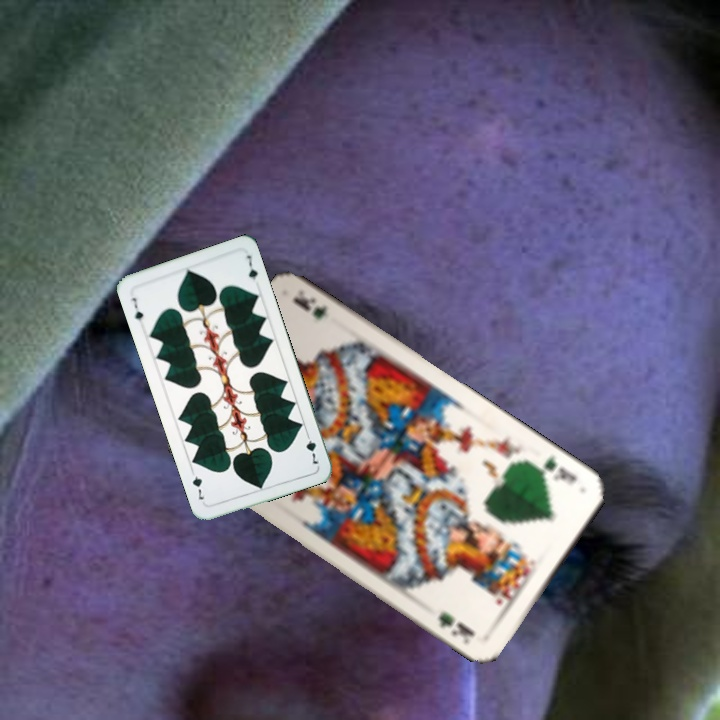G7: (302, 428, 323, 467), (128, 293, 146, 323)
GK: (527, 451, 580, 488)
